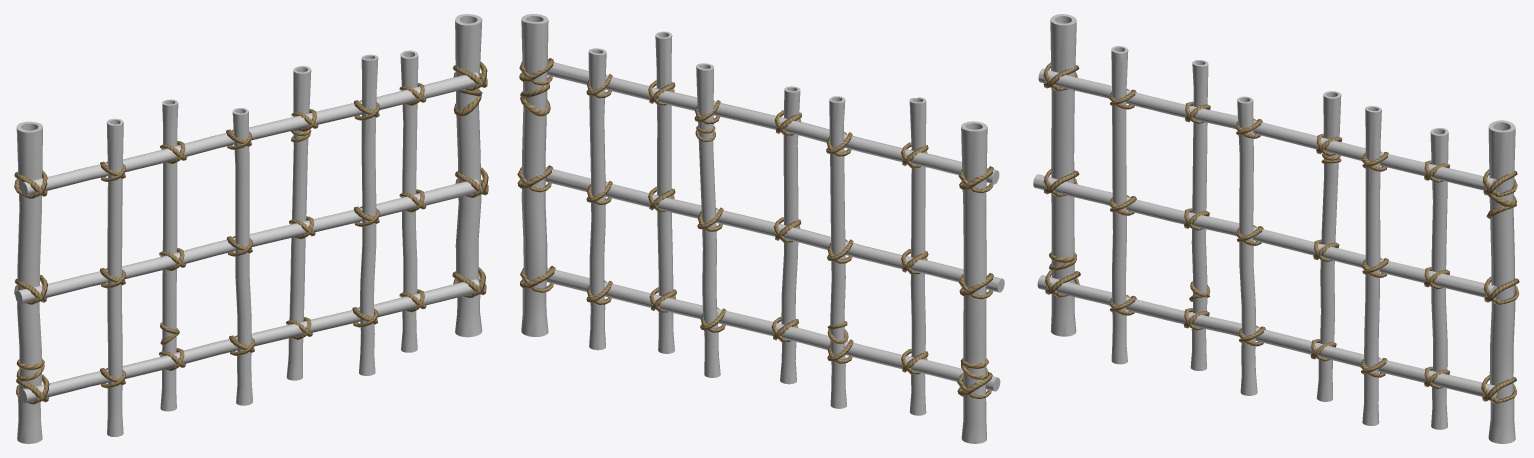
Rendered from SM_EastLands_BambooFence_A_01.fbx.
The picture shows the model from 3 angles, left to right: view 1: azimuth 30°, elevation 25°; view 2: azimuth 150°, elevation 25°; view 3: azimuth 330°, elevation 25°; orthographic projection.
Visible parts, largest first — view 1: SM_EastLands_BambooFence_A_01_LOD0; view 2: SM_EastLands_BambooFence_A_01_LOD0; view 3: SM_EastLands_BambooFence_A_01_LOD0.
Part boxes in pixels (x1=…): SM_EastLands_BambooFence_A_01_LOD0: x1=14, y1=14, x2=488, y2=443; SM_EastLands_BambooFence_A_01_LOD0: x1=517, y1=14, x2=1004, y2=443; SM_EastLands_BambooFence_A_01_LOD0: x1=1033, y1=14, x2=1519, y2=443.
Bounding box in the file's own units: 215 × 136 × 22.57.
